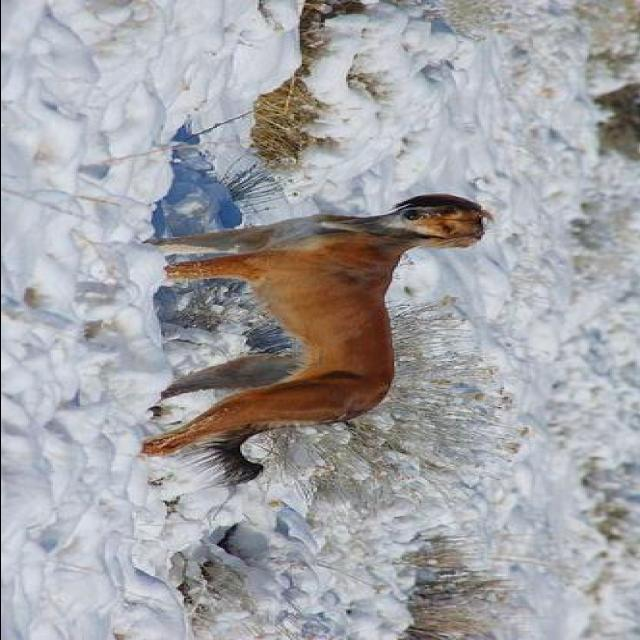saluki: (136, 192, 490, 485)
